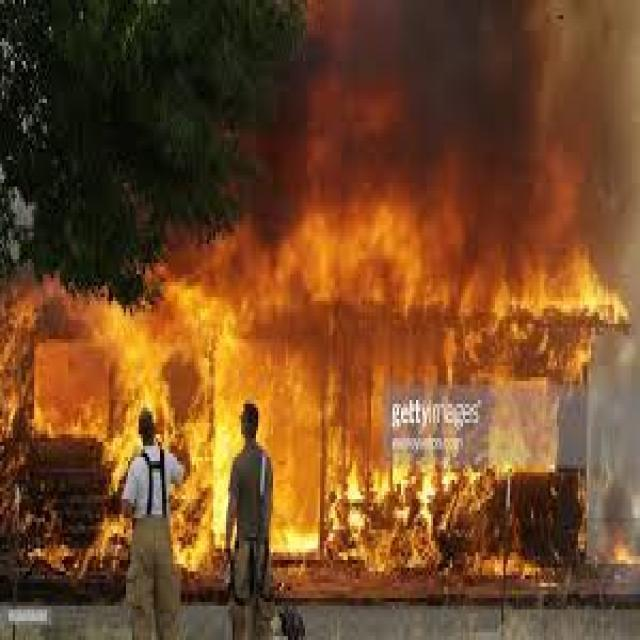Fire: (78, 349, 321, 556), (298, 209, 622, 331), (111, 253, 335, 395), (6, 265, 75, 469)
Smoke: (341, 9, 560, 186)
